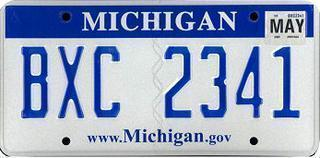placa de veiculo: (2, 3, 313, 155)
